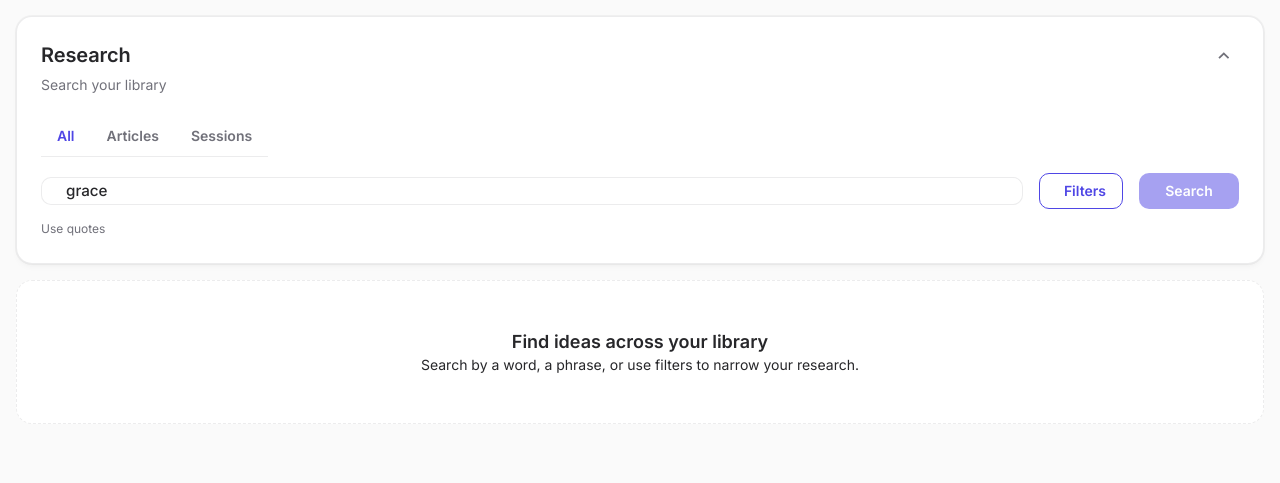
Research View › search progress and errors › shows delayed search progress while a query runs
Click the button "Search".
click(1189, 191)  # box [1139, 173, 1239, 209]
Wait 3000 ms
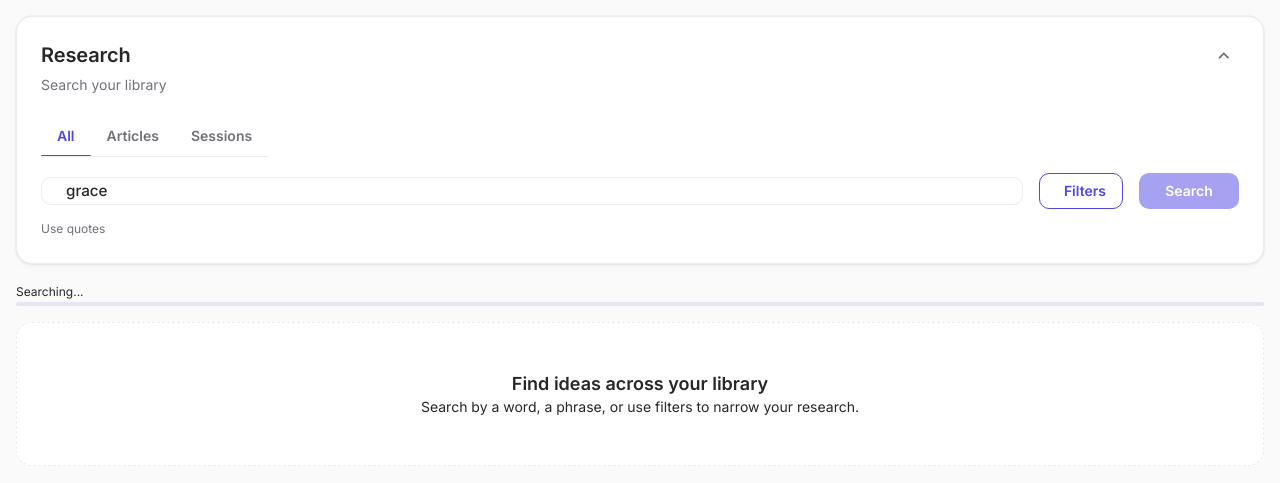
Expected: the text "Searching..." is shown, [16, 284, 84, 299]
